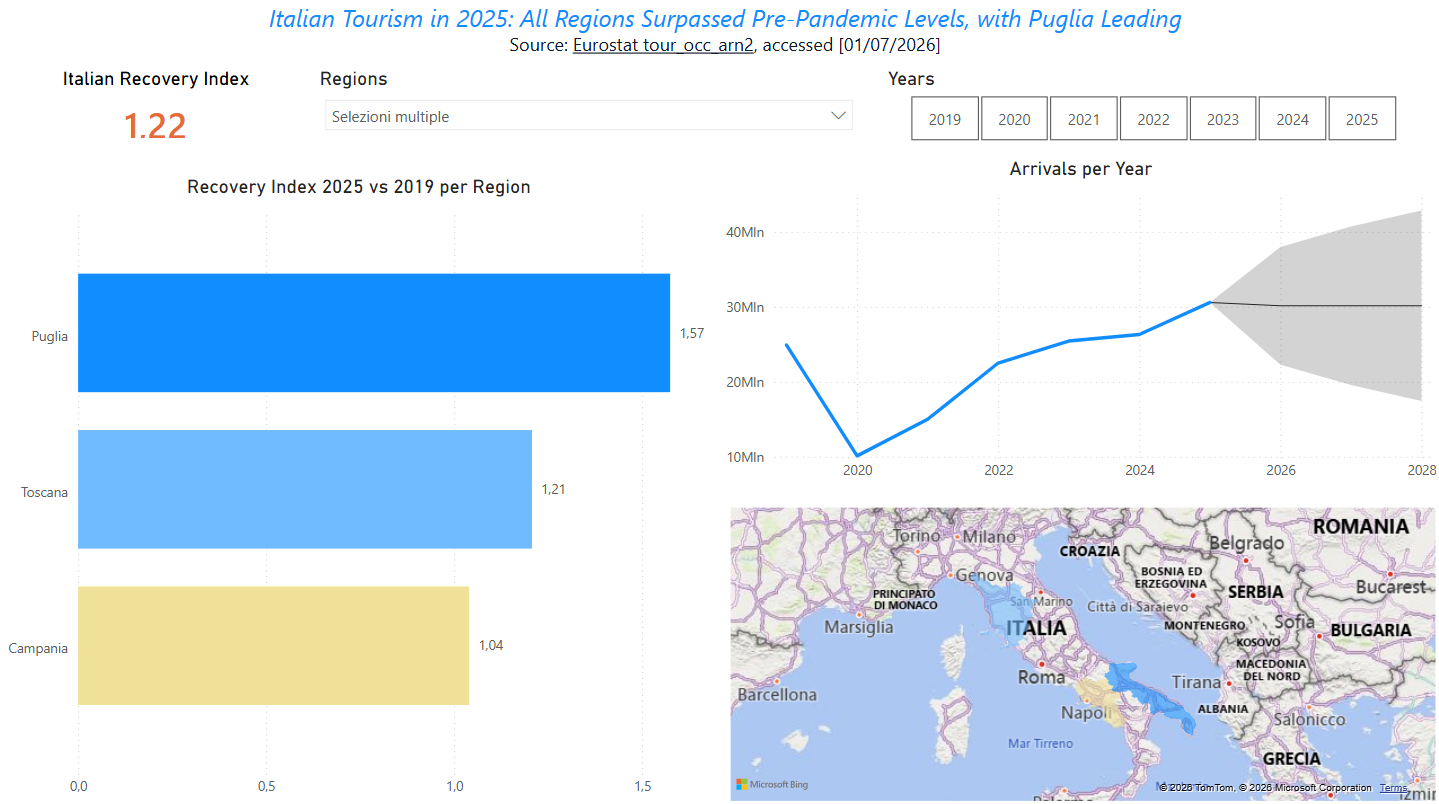

What the dashboard file says about the page in this screenshot:
{"tool":"powerbi","page":{"name":"Main","canvas":[1280,720],"ordinal":0},"visuals":[{"type":"textbox","box":[9.8,0,1270.2,84.5],"z":0},{"type":"clusteredBarChart","title":"Recovery Index 2025 vs 2019 per Region","fields":{"Category":["fct_yearly_nights.region_name"],"Y":["fct_yearly_nights.Recovery_Index"]},"box":[0,159.5,640,560.2],"z":1000},{"type":"lineChart","title":"Nights per Year","fields":{"Category":["fct_yearly_nights.year"],"Y":["Sum(fct_yearly_nights.nights)"]},"box":[640,144,640,295.7],"z":2000},{"type":"filledMap","fields":{"Category":["dim_region.region_name"]},"box":[644.9,449.4,635.1,270.4],"z":3000},{"type":"slicer","title":"Regions","fields":{"Values":["dim_region.region_name"]},"box":[280.2,63.8,487.7,80.7],"z":4000},{"type":"slicer","title":"Years","fields":{"Values":["fct_yearly_nights.year"]},"box":[783.8,63.8,479.7,71.8],"z":5000},{"type":"cardVisual","title":"Italian Recovery Index","fields":{"Data":["fct_yearly_nights.Italy Recovery Index (Fixed)"]},"box":[0,63.8,280.2,80.7],"z":6000}]}

Visuals, with their boxes in screenshot pixels (x1, y1, x2, y2), scaled from the page's 1280x720 canvas onto the 1439x804 screenshot:
textbox: {"left": 11, "top": 0, "right": 1438, "bottom": 94}
"Recovery Index 2025 vs 2019 per Region" clusteredBarChart: {"left": 0, "top": 178, "right": 720, "bottom": 803}
"Nights per Year" lineChart: {"left": 720, "top": 161, "right": 1438, "bottom": 491}
filledMap - dim_region.region_name: {"left": 725, "top": 502, "right": 1438, "bottom": 803}
"Regions" slicer: {"left": 315, "top": 71, "right": 863, "bottom": 161}
"Years" slicer: {"left": 881, "top": 71, "right": 1420, "bottom": 151}
"Italian Recovery Index" cardVisual: {"left": 0, "top": 71, "right": 315, "bottom": 161}
